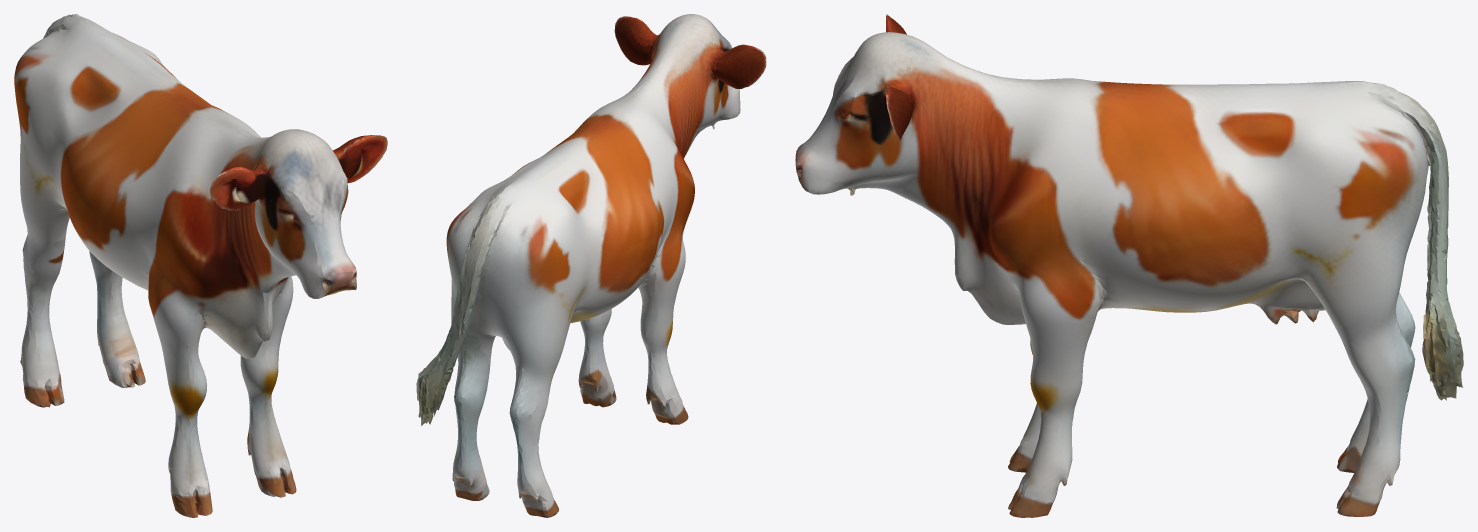
The model's file is calf.glb.
3 views of the same model, side by side, from view 1: azimuth 30°, elevation 25°; view 2: azimuth 150°, elevation 25°; view 3: azimuth 270°, elevation 25° (orthographic). The views are drawn at different scales.
Visible parts, largest first — view 1: model; view 2: model; view 3: model.
Part boxes in pixels (x1=…): model: x1=14, y1=14, x2=387, y2=517; model: x1=416, y1=14, x2=766, y2=517; model: x1=795, y1=14, x2=1463, y2=517.
Bounding box in the file's own units: 0.6377 × 1.42 × 1.9.
Materials: 1 (1 with a texture image).
